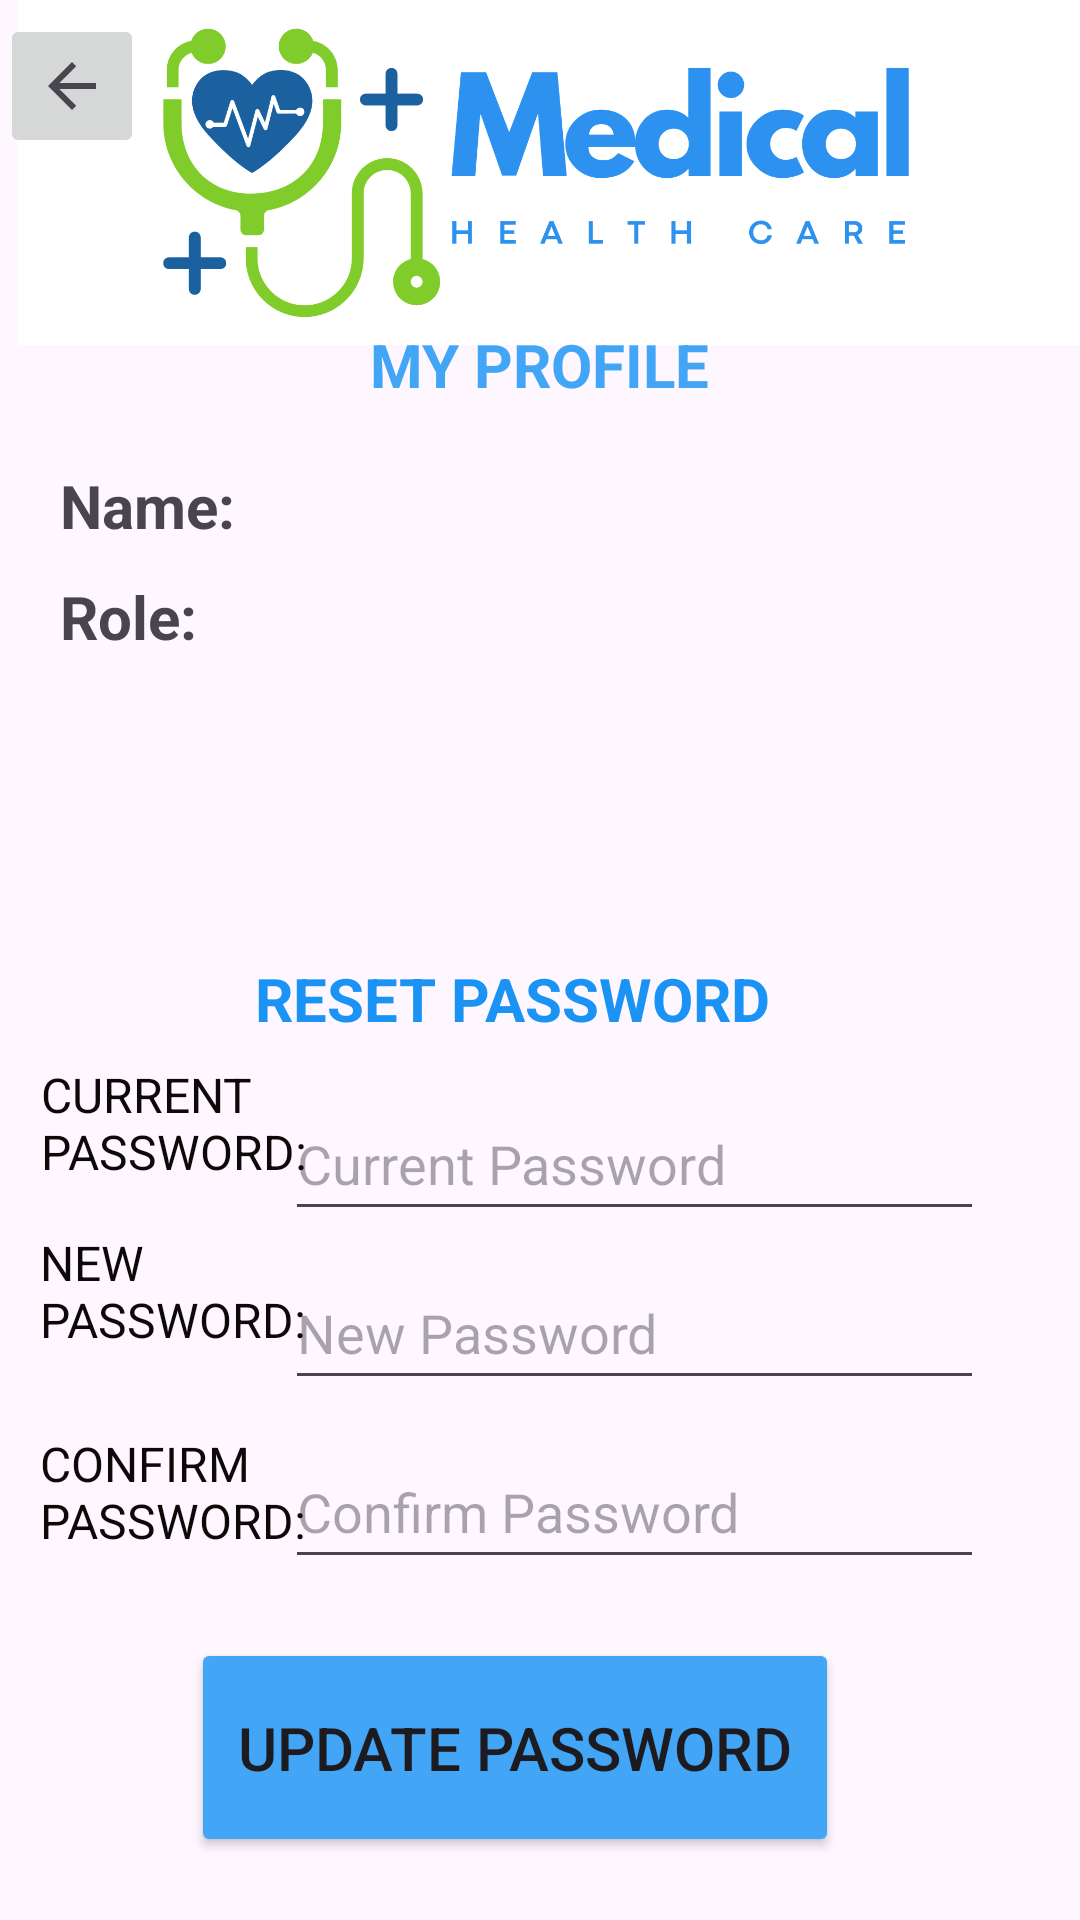

Named icons in this screenshot (1080w x 1920h) and their centers, [x,y]:
Back Button: [72,86]
